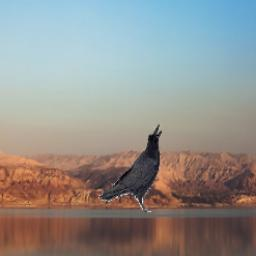Crow: (99, 122, 163, 212)
